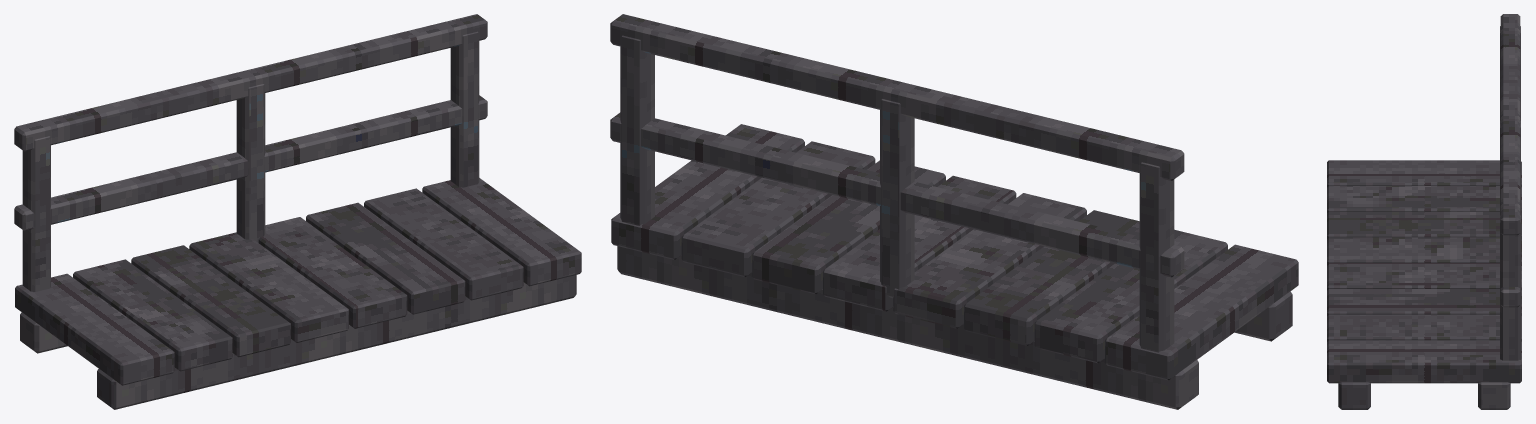
Rendered from act2_gallery_section.glb.
3 views of the same model, side by side, from view 1: azimuth 30°, elevation 25°; view 2: azimuth 150°, elevation 25°; view 3: azimuth 270°, elevation 25° (orthographic). The views are drawn at different scales.
Parts seen in each view (by area): view 1: guard_rail.001, guard_rail, underbeam, plank_0, plank_5, plank_1, plank_6, plank_2, plank_3, plank_4, plank_7, railing_post.001 (+3 smaller); view 2: guard_rail.001, guard_rail, underbeam.001, plank_0, plank_6, plank_3, plank_2, plank_1, plank_7, plank_5, plank_4, railing_post (+3 smaller); view 3: plank_7, plank_2, plank_6, guard_rail.001, plank_0, plank_4, plank_1, plank_3, plank_5, railing_post.002, underbeam, underbeam.001 (+3 smaller).
Boxes of the visible parts, x1,y1,x2,y2 form: guard_rail.001: [14, 14, 487, 151]; guard_rail: [14, 95, 487, 231]; underbeam: [97, 275, 576, 409]; plank_0: [15, 273, 174, 385]; plank_5: [306, 202, 465, 314]; plank_1: [73, 259, 232, 371]; plank_6: [364, 188, 523, 300]; plank_2: [131, 245, 290, 357]; plank_3: [189, 232, 348, 342]; plank_4: [258, 217, 407, 328]; plank_7: [422, 178, 581, 286]; railing_post.001: [236, 84, 265, 242]; guard_rail.001: [610, 14, 1184, 180]; guard_rail: [610, 112, 1184, 277]; underbeam.001: [617, 246, 1198, 409]; plank_0: [1105, 244, 1298, 380]; plank_6: [681, 141, 875, 277]; plank_3: [893, 193, 1086, 328]; plank_2: [964, 210, 1139, 345]; plank_1: [1034, 229, 1227, 363]; plank_7: [611, 124, 804, 259]; plank_5: [752, 160, 945, 294]; plank_4: [823, 175, 1016, 311]; railing_post: [1139, 162, 1174, 352]; plank_7: [1327, 340, 1521, 383]; plank_2: [1327, 211, 1521, 238]; plank_6: [1327, 314, 1521, 341]; guard_rail.001: [1500, 14, 1520, 235]; plank_0: [1327, 160, 1521, 187]; plank_4: [1327, 263, 1521, 290]; plank_1: [1327, 186, 1521, 212]; plank_3: [1327, 237, 1521, 264]; plank_5: [1327, 289, 1521, 315]; railing_post.002: [1500, 215, 1520, 360]; underbeam: [1338, 382, 1370, 409]; underbeam.001: [1478, 382, 1510, 409].
Size of the model in its own units: 3 by 1.31 by 1.2.
Materials: 2 (2 with a texture image).
